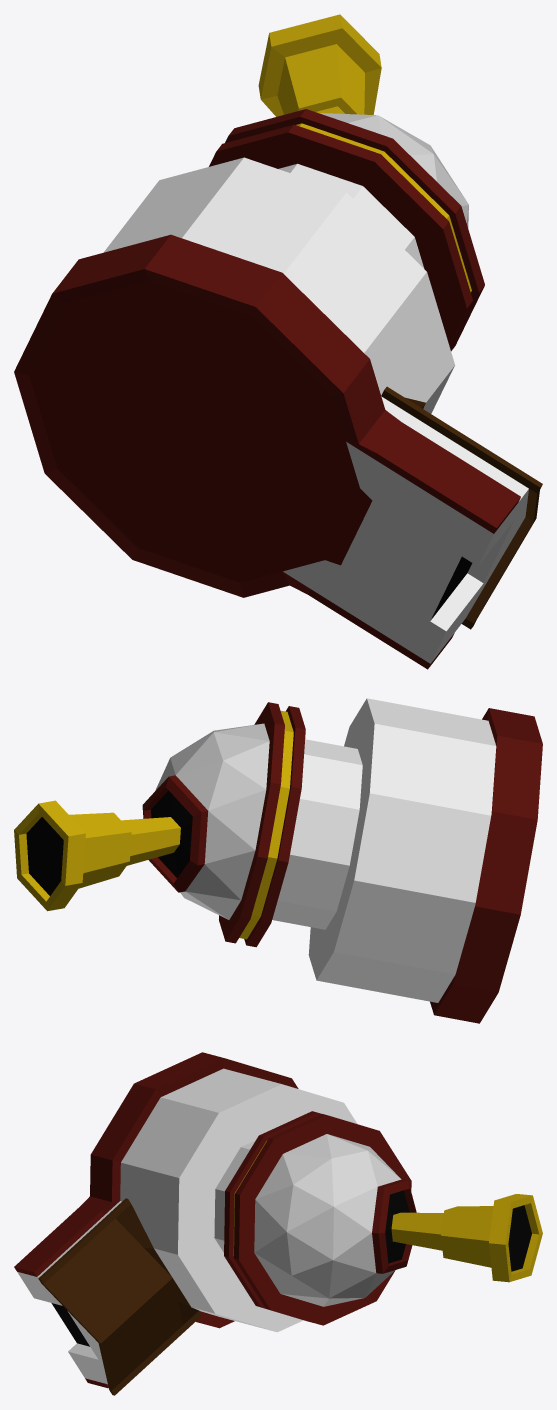
The model's file is planet_observatory.glb.
3 views of the same model, one above another, from view 1: azimuth 30°, elevation 25°; view 2: azimuth 150°, elevation 25°; view 3: azimuth 270°, elevation 25° (orthographic). The views are drawn at different scales.
Visible parts, largest first — view 1: observatory; view 2: observatory; view 3: observatory.
Part boxes in pixels (x1,y1,x2,y2): observatory: [14, 14, 542, 669]; observatory: [14, 698, 542, 1023]; observatory: [14, 1052, 542, 1395].
Size of the model in its own units: 9.13 by 7.2 by 12.07.
